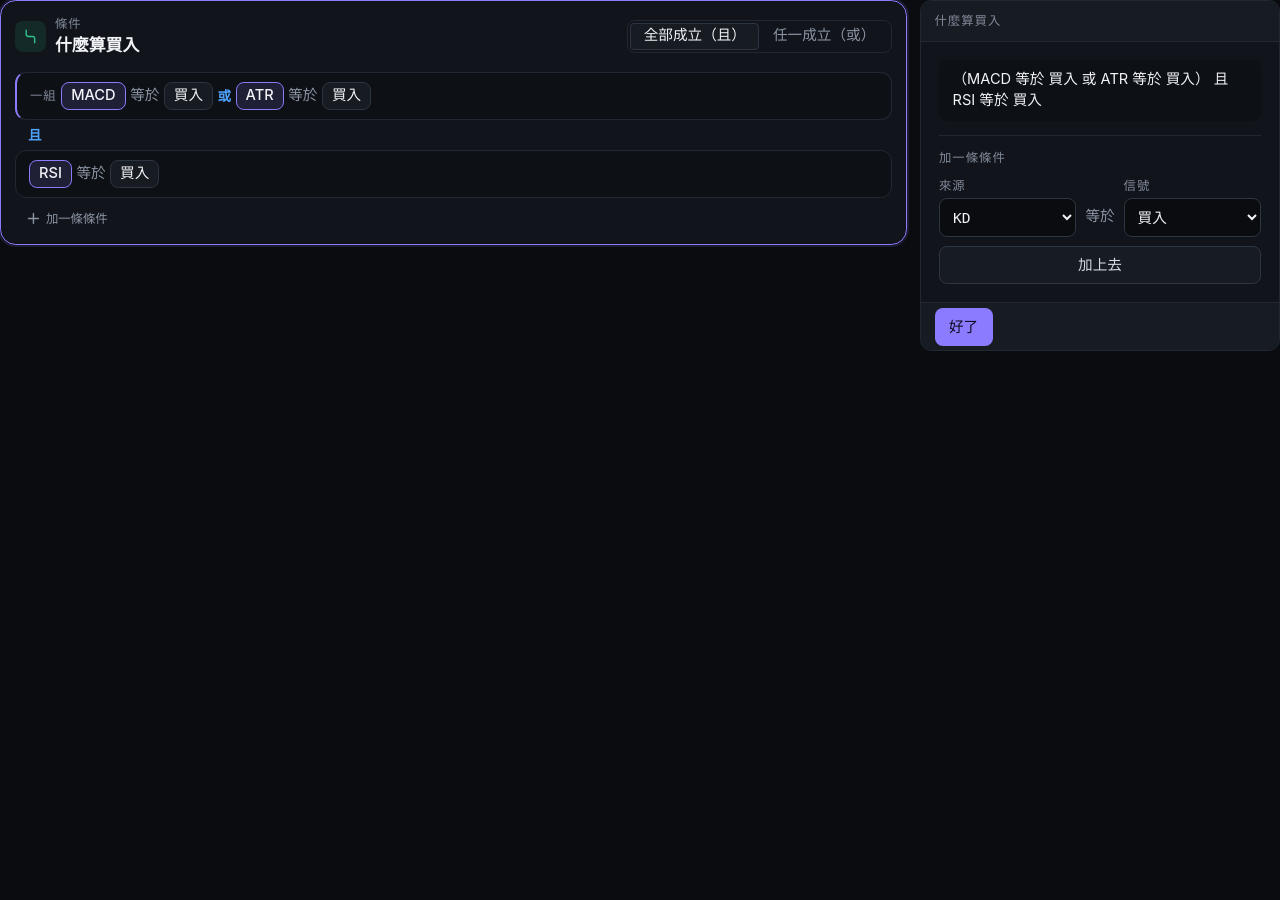
it: TradingStrategyConditionCard：扣在一起的那幾條 › 一組的設定裡有它們之間怎麼合併
The image size is (1280, 900).
Click the button with test id "item-buy-MACD+ATR" at (83, 92), box [14, 72, 892, 120]
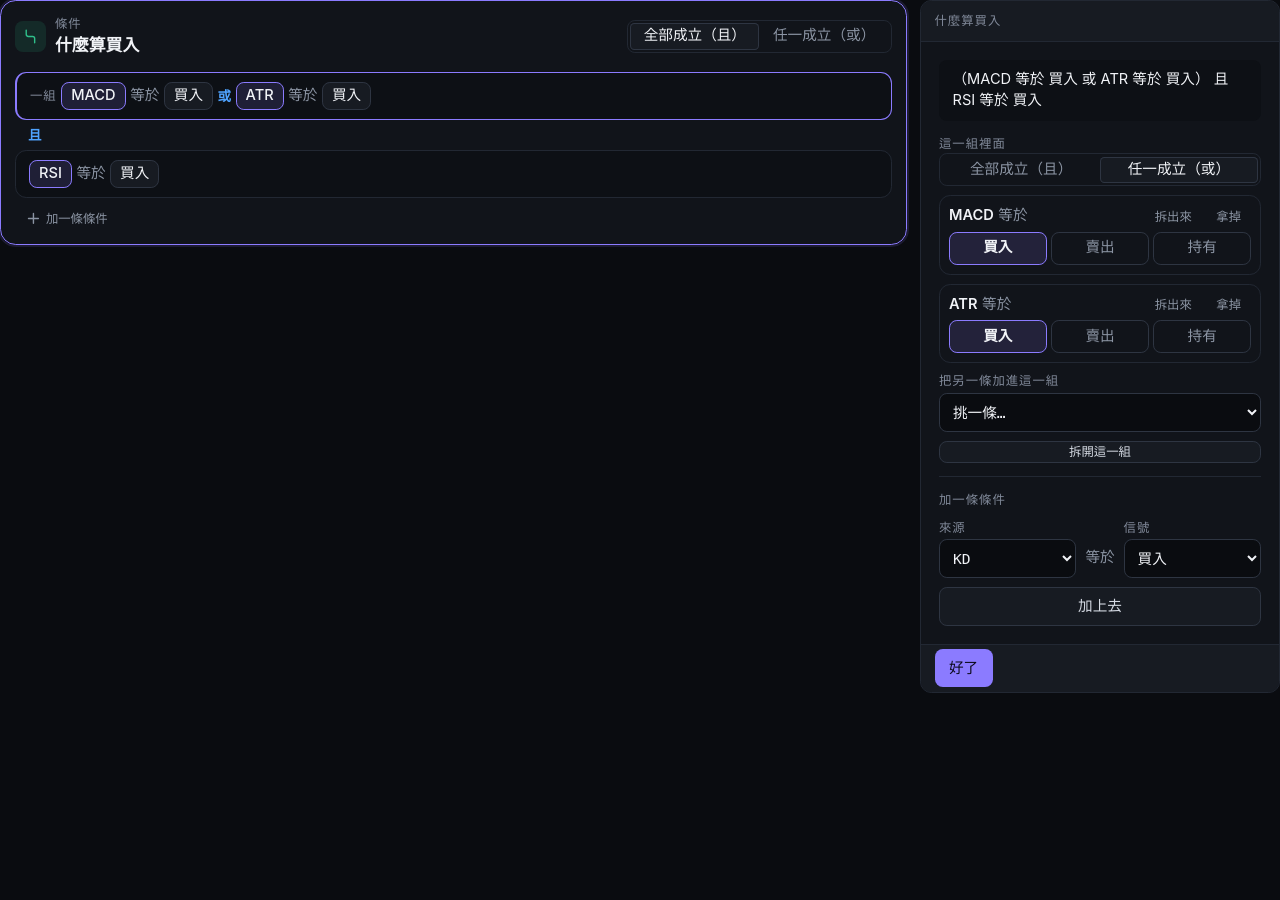
Expected: the element with test id "bundle-operator-buy-MACD+ATR" is shown, [939, 153, 1261, 186]
